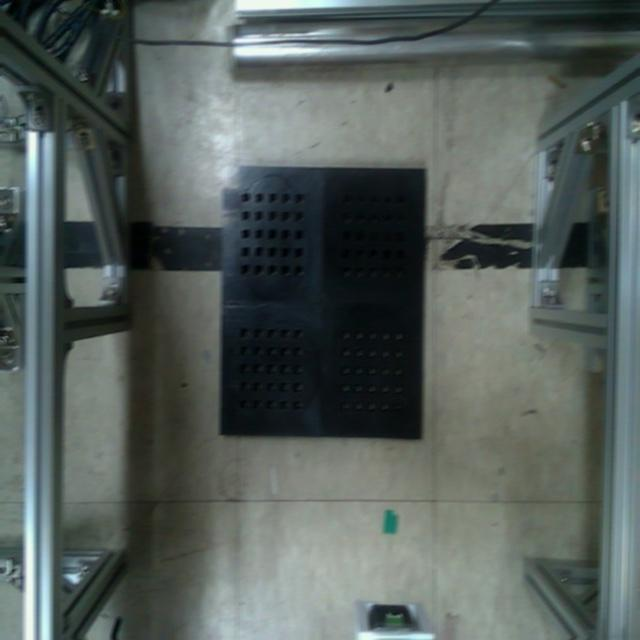pallet: (217, 166, 426, 445)
